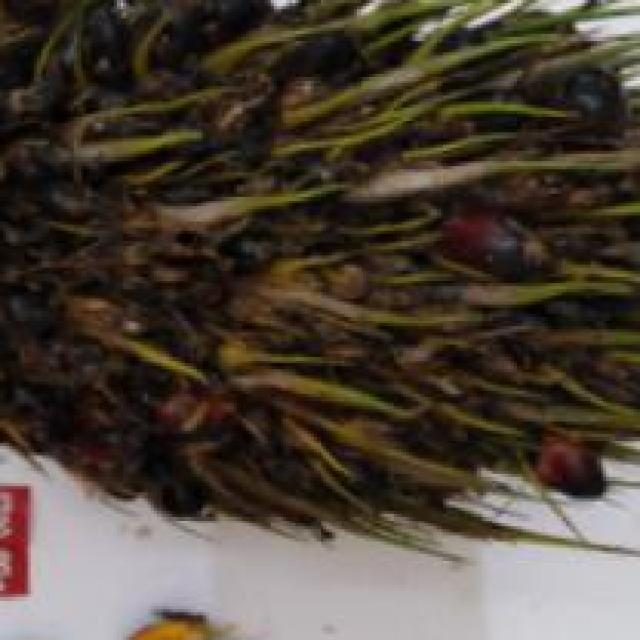unripe: (0, 0, 640, 551)
